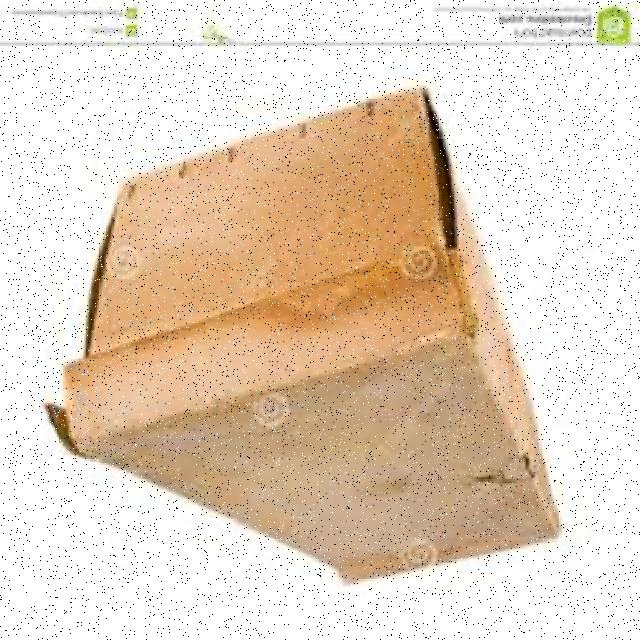defect: (48, 83, 570, 586)
